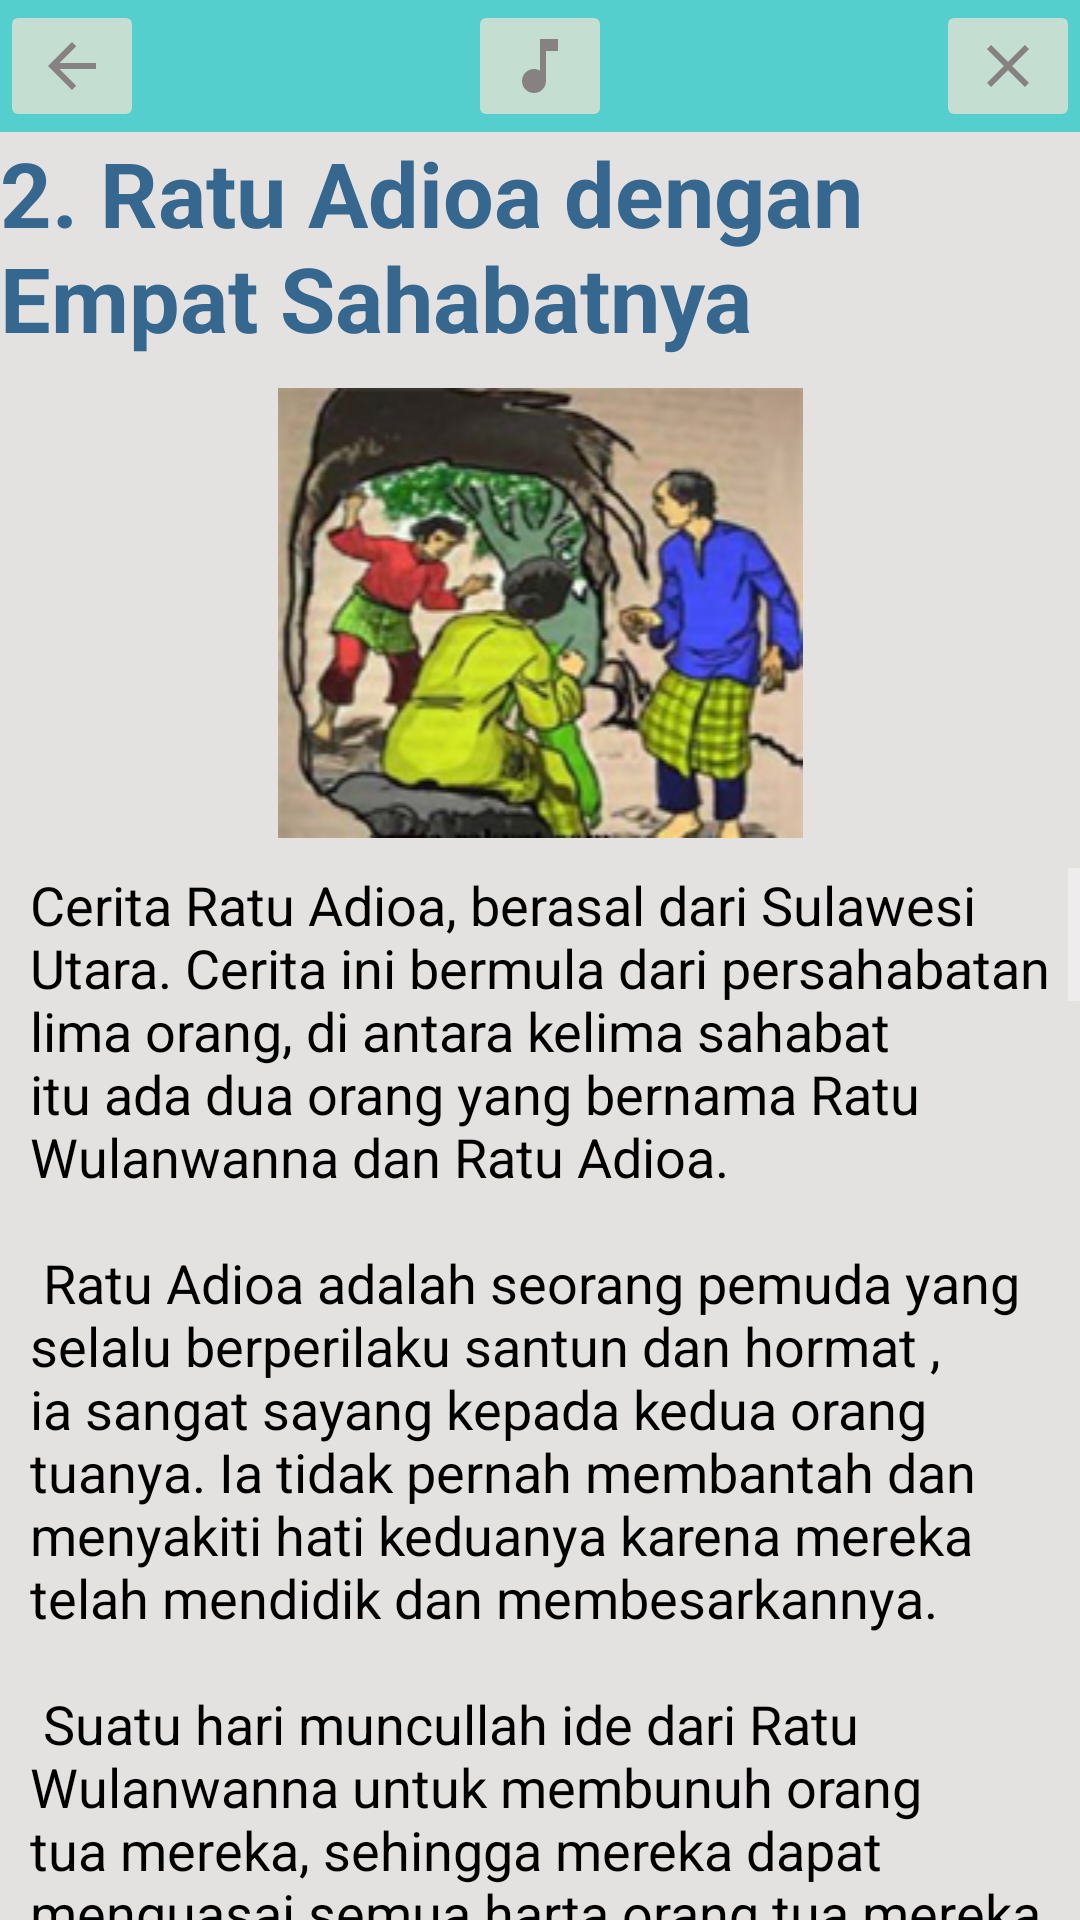

Icons on this 1080w x 1920h Android screen, each with the point to tap as point (x, y):
arrow back: point (72, 66)
close: point (1008, 66)
music note: point (540, 66)
